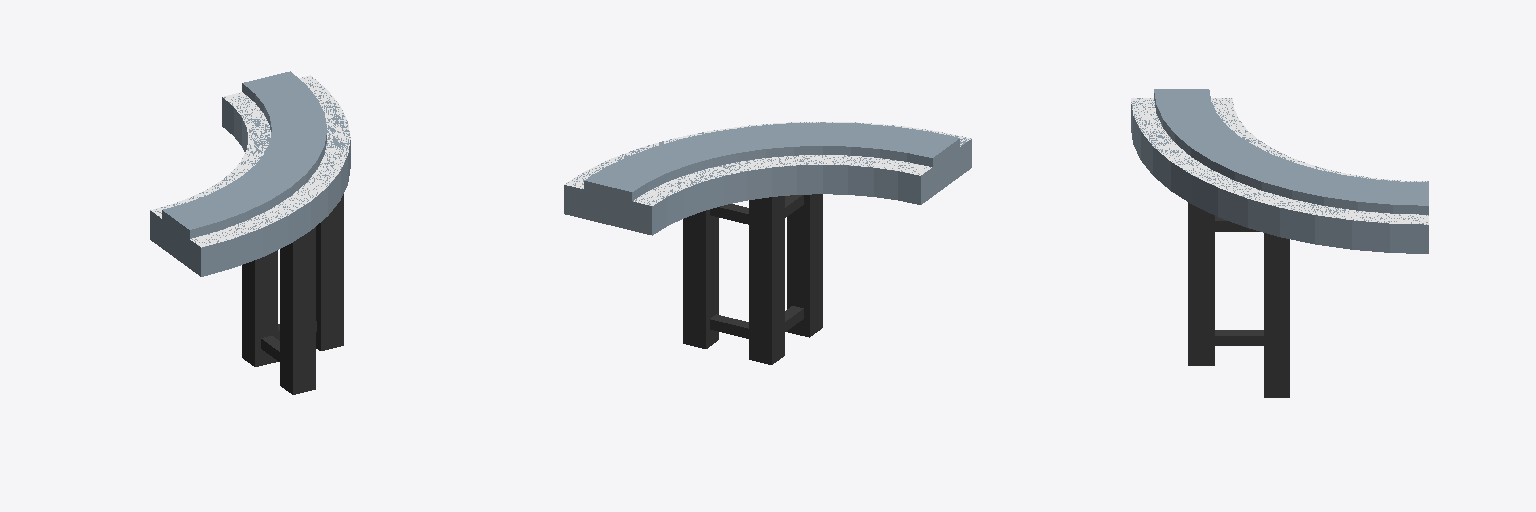
File: monorailTrack_cornerSmall_exclusive.obj
The picture shows the model from 3 angles: view 1: azimuth 30°, elevation 25°; view 2: azimuth 150°, elevation 25°; view 3: azimuth 270°, elevation 25°; orthographic projection.
Visible parts, largest first — view 1: monorailTrack_cornerSmall_exclusive; view 2: monorailTrack_cornerSmall_exclusive; view 3: monorailTrack_cornerSmall_exclusive.
Boxes of the visible parts, <box> form: monorailTrack_cornerSmall_exclusive: <box>150,71,350,394</box>; monorailTrack_cornerSmall_exclusive: <box>564,122,971,364</box>; monorailTrack_cornerSmall_exclusive: <box>1131,89,1428,397</box>.
Size of the model in its own units: 6.03 by 4.61 by 6.03.